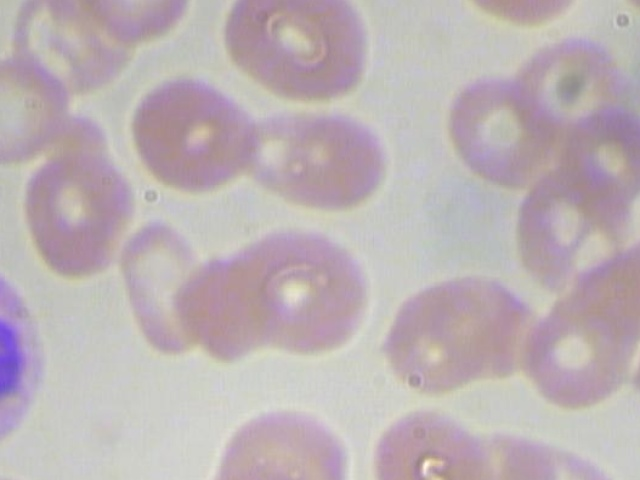RBC: (213, 220, 382, 367), (241, 93, 394, 211), (16, 143, 134, 289), (218, 0, 372, 107), (128, 73, 259, 194), (120, 212, 213, 359), (442, 75, 562, 187), (522, 299, 640, 411), (368, 402, 498, 480), (556, 104, 640, 209), (0, 50, 70, 170), (201, 440, 331, 480), (0, 467, 65, 480)
WBC: (0, 250, 47, 476)
